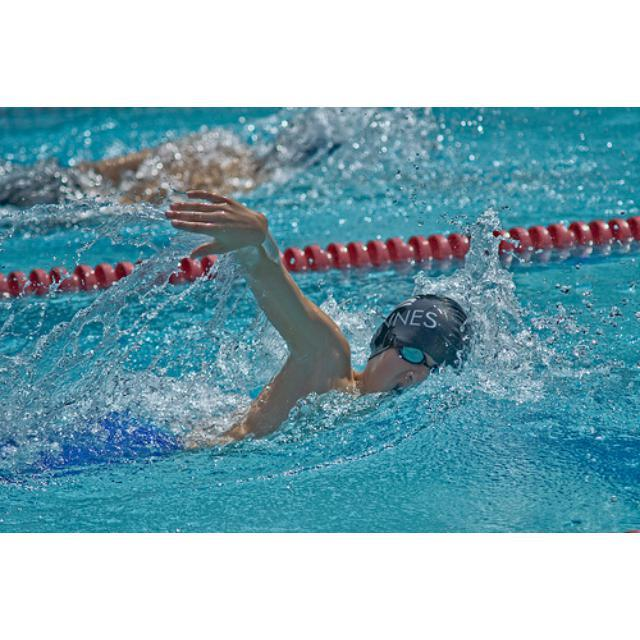human: (165, 172, 487, 458)
